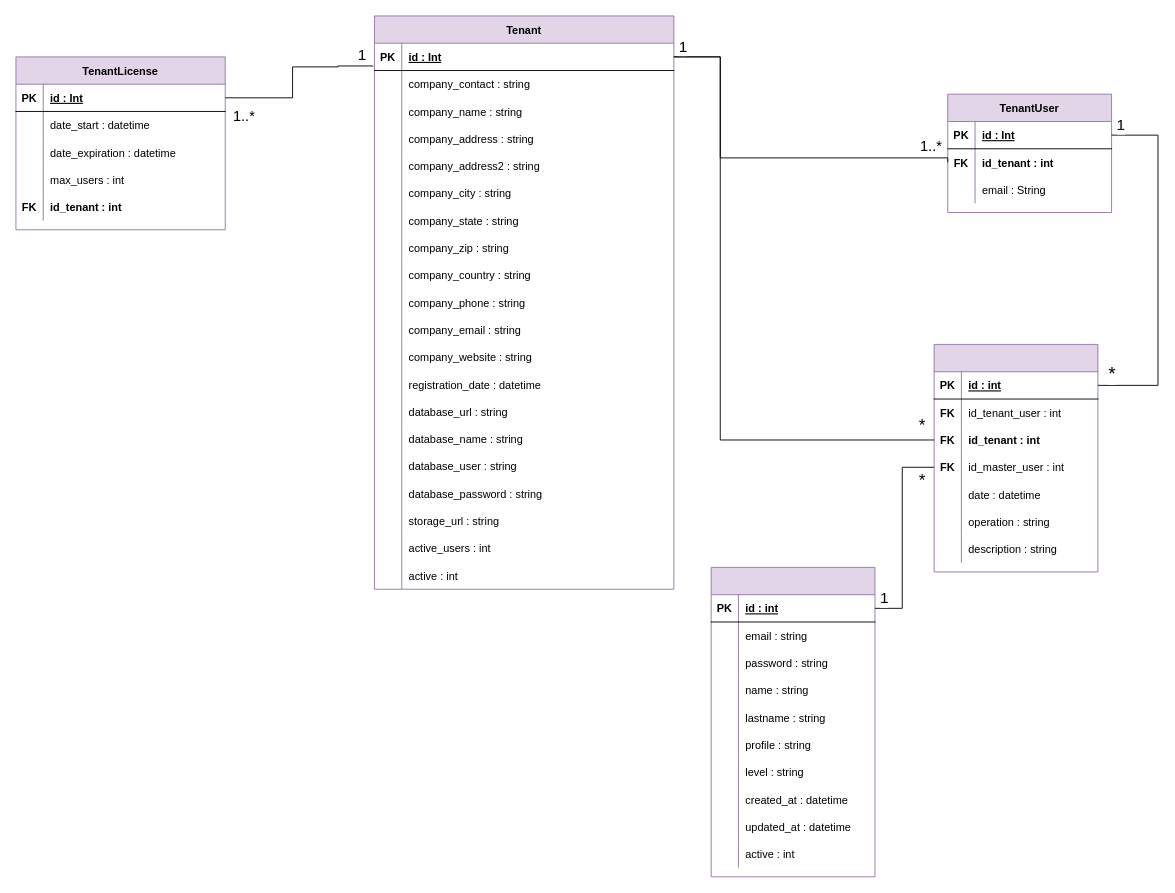
Some shapes in this 1175 by 893 pixel diagram are drawn without their labels. Each missing label, with the box of its shape:
Audit: (933, 344, 1098, 572)
User: (710, 566, 875, 877)
